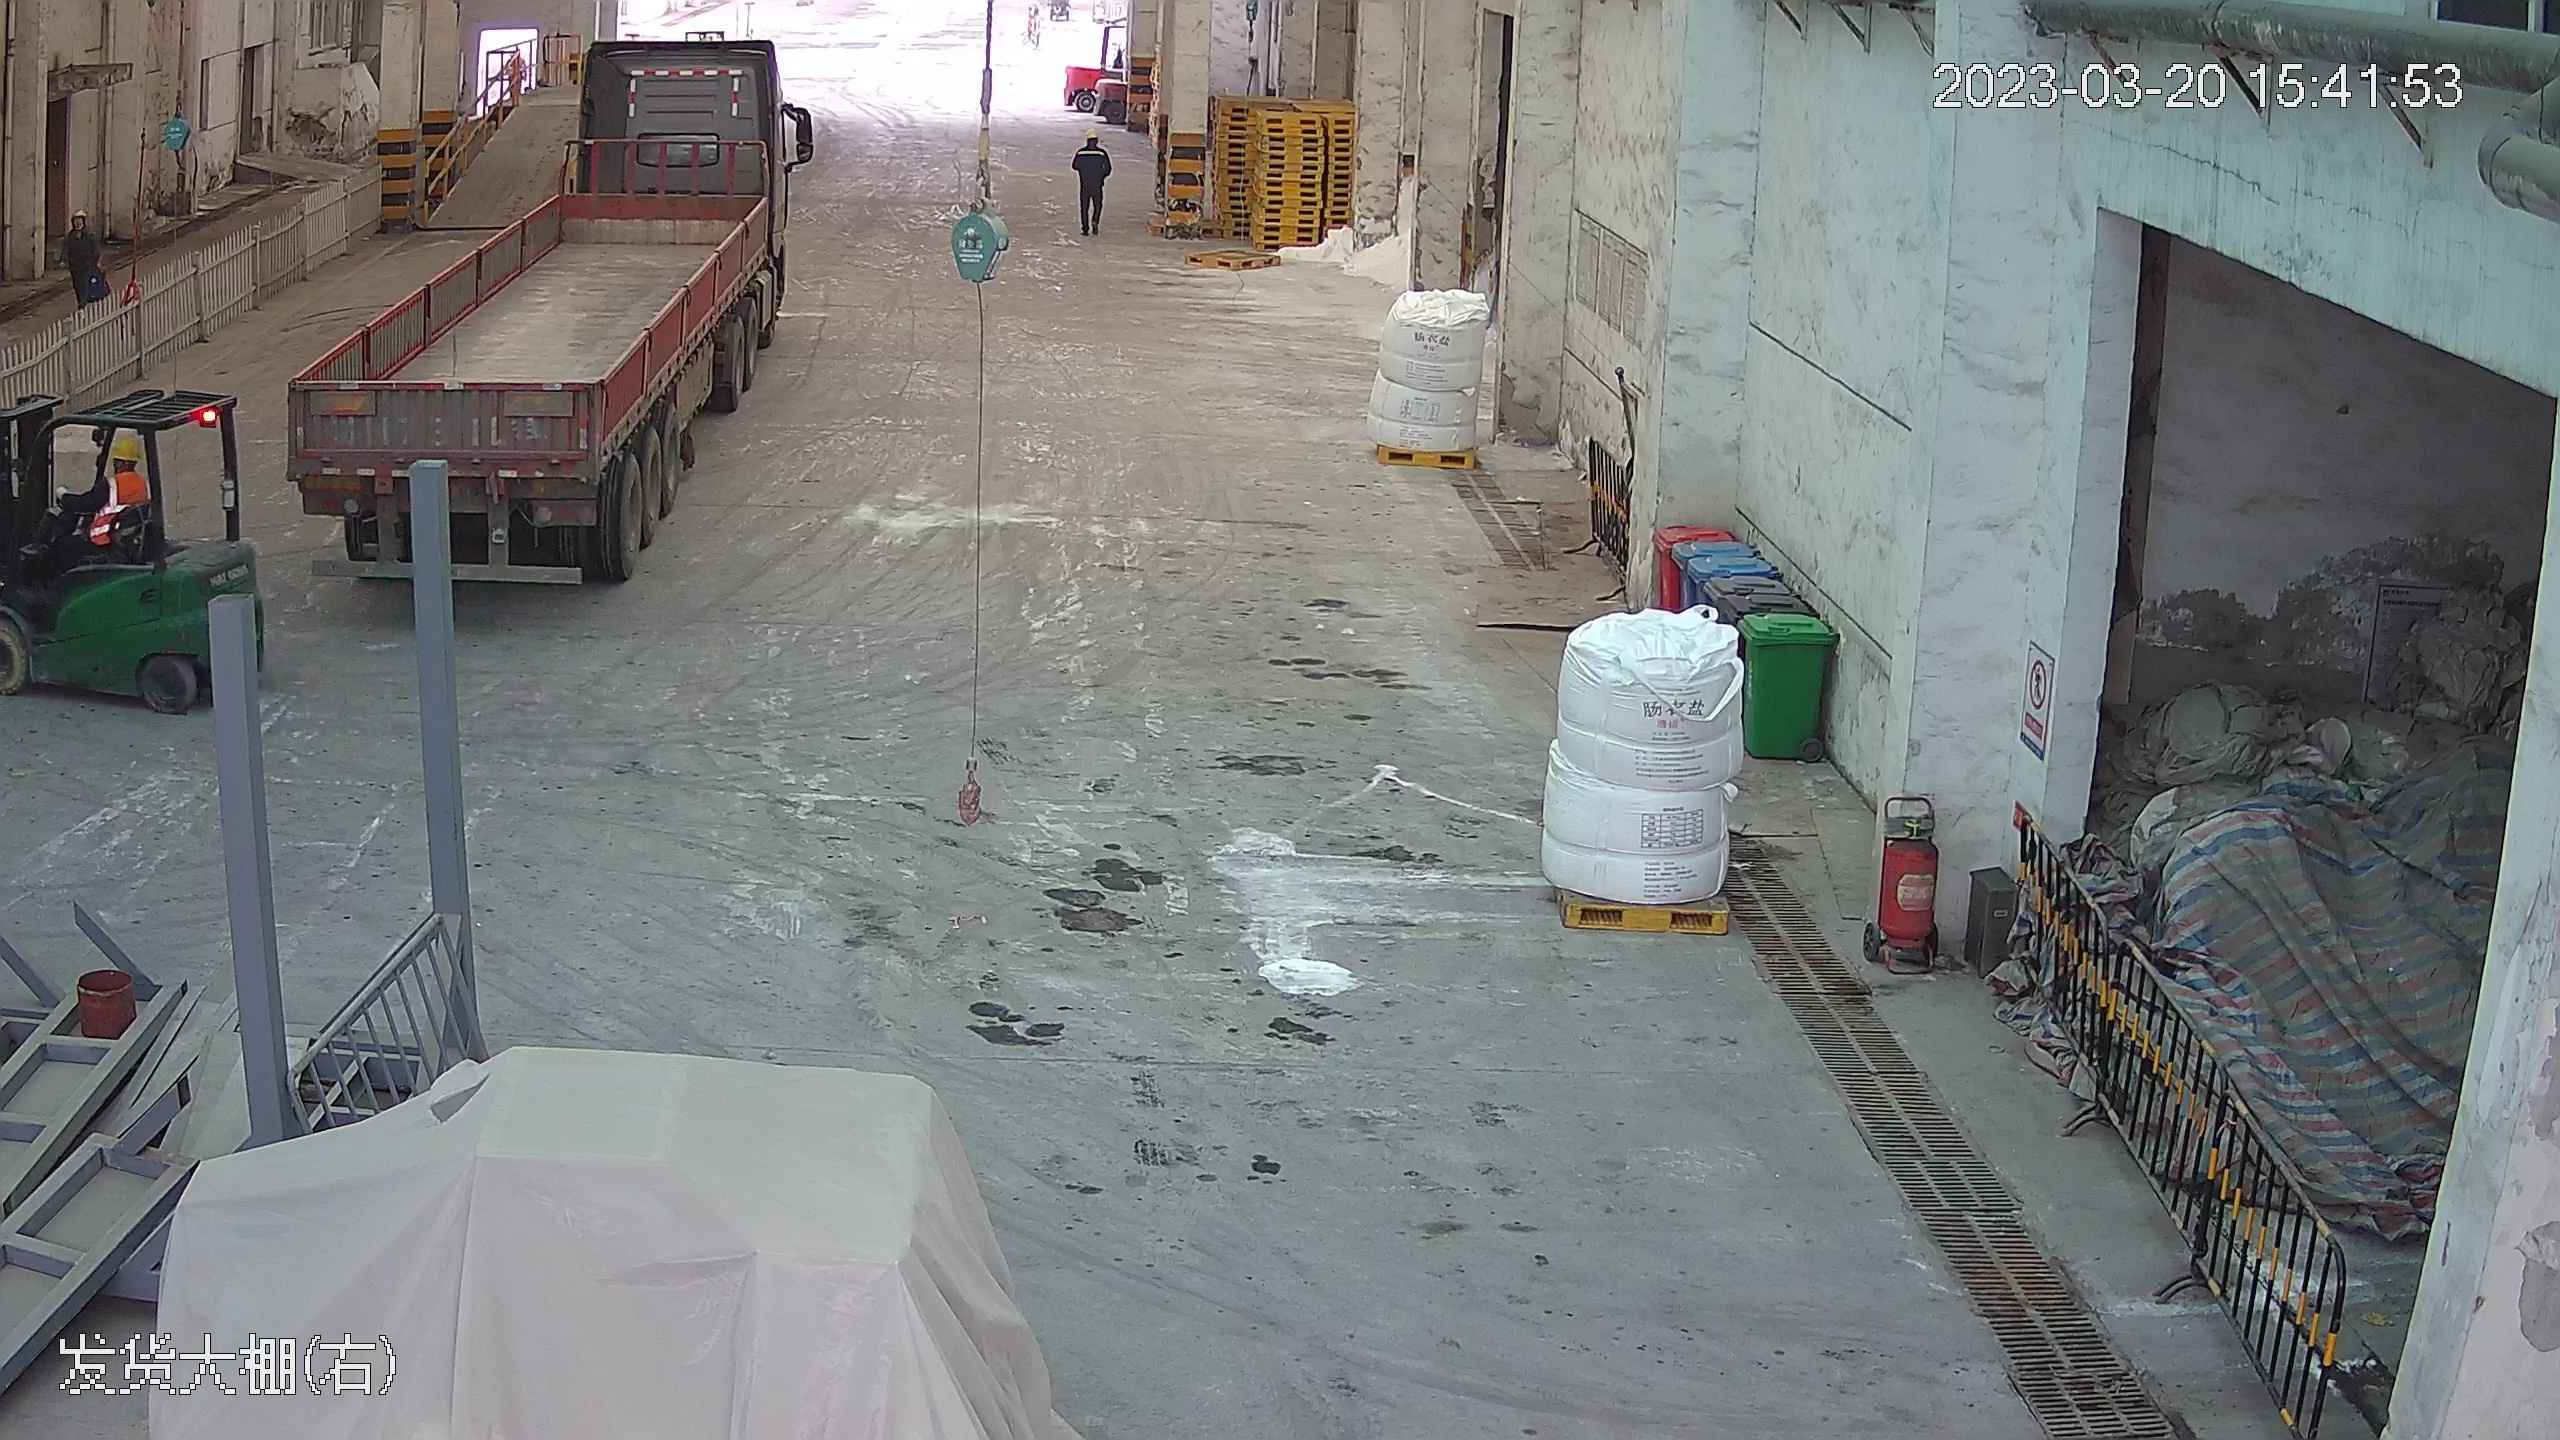head: (91, 429, 149, 514), (1075, 124, 1111, 162), (64, 212, 96, 249)
helmet: (106, 429, 143, 460), (70, 209, 88, 224), (1084, 130, 1098, 140)
people: (52, 422, 150, 577), (1071, 123, 1114, 237), (59, 209, 104, 313)
truck: (271, 13, 800, 592)
